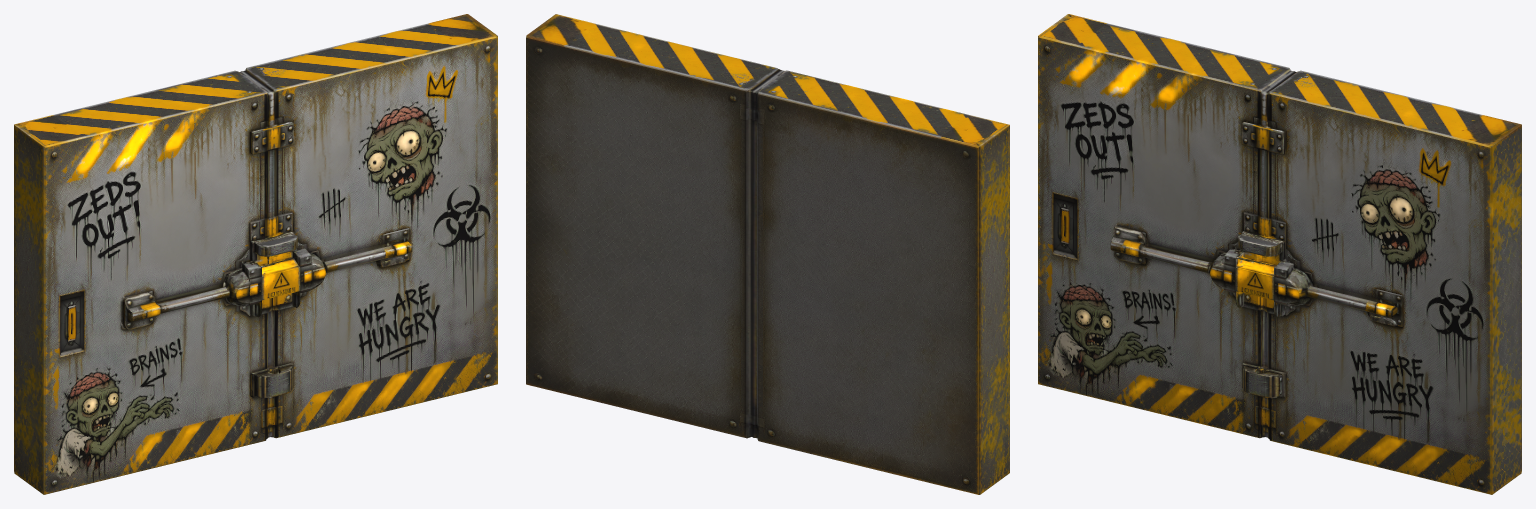
File: Concrete_large_Door_1.glb
3 views of the same model, side by side, from view 1: azimuth 30°, elevation 25°; view 2: azimuth 150°, elevation 25°; view 3: azimuth 330°, elevation 25° (orthographic).
Bounding box in the file's own units: 1.91 × 1.4 × 0.3053.
Materials: 1 (1 with a texture image).
